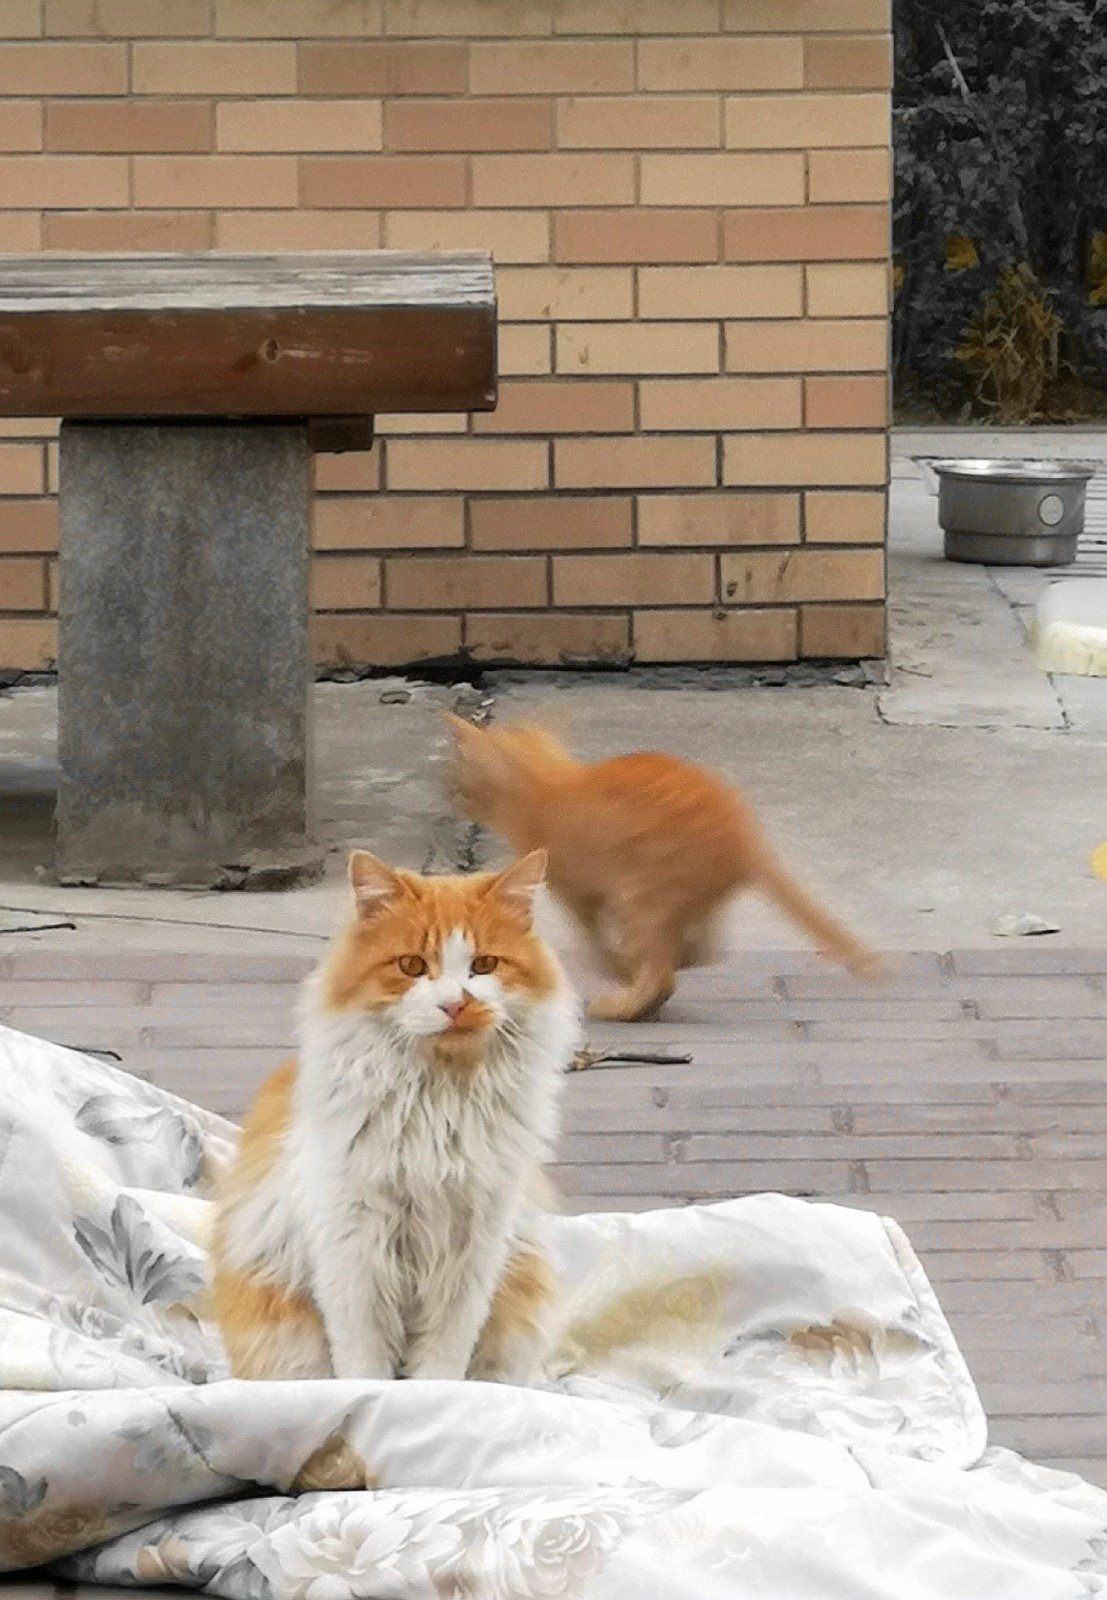cat: (207, 847, 578, 1390), (445, 706, 882, 1021)
